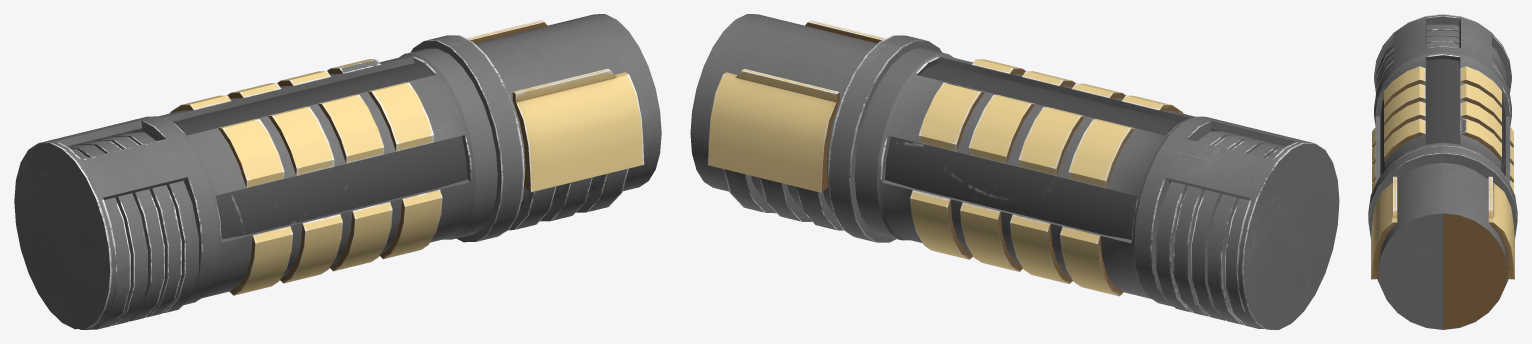
File: grip_20_r_b.glb
3 renders of one model, left to right at view 1: azimuth 30°, elevation 25°; view 2: azimuth 150°, elevation 25°; view 3: azimuth 270°, elevation 25°, orthographic. The views are drawn at different scales.
Parts seen in each view (by area): view 1: grip_20_r_b_lod0; view 2: grip_20_r_b_lod0; view 3: grip_20_r_b_lod0.
Boxes of the visible parts, x1,y1,x2,y2 form: grip_20_r_b_lod0: [14, 14, 661, 329]; grip_20_r_b_lod0: [690, 14, 1339, 329]; grip_20_r_b_lod0: [1368, 14, 1517, 329].
Size of what is drawn, in the model's own units: 0.1039 by 0.0337 by 0.0337.
Materials: 1 (1 with a texture image).
